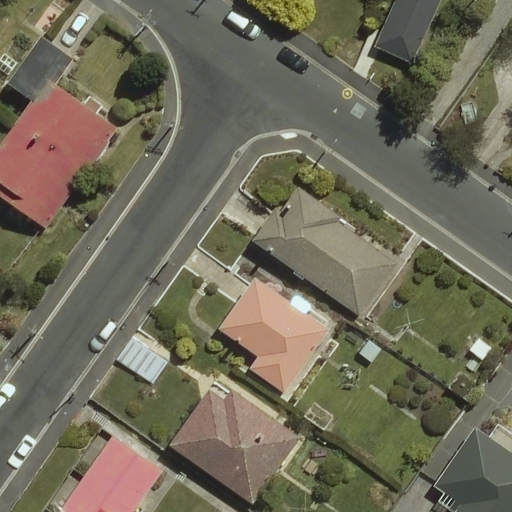DT: (17, 316, 49, 350), (305, 132, 343, 160), (132, 3, 160, 39), (154, 108, 189, 135)
